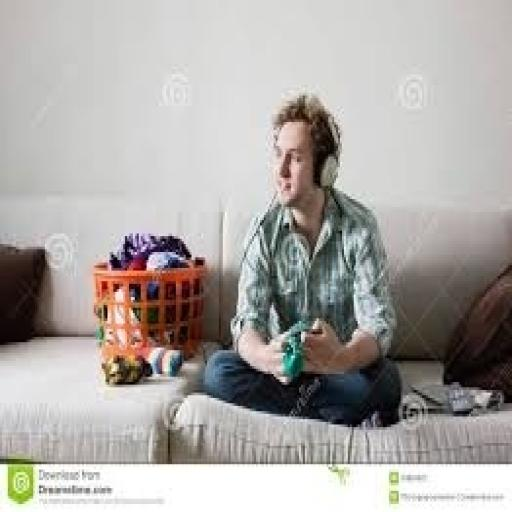listening_to_music: (200, 90, 402, 430)
